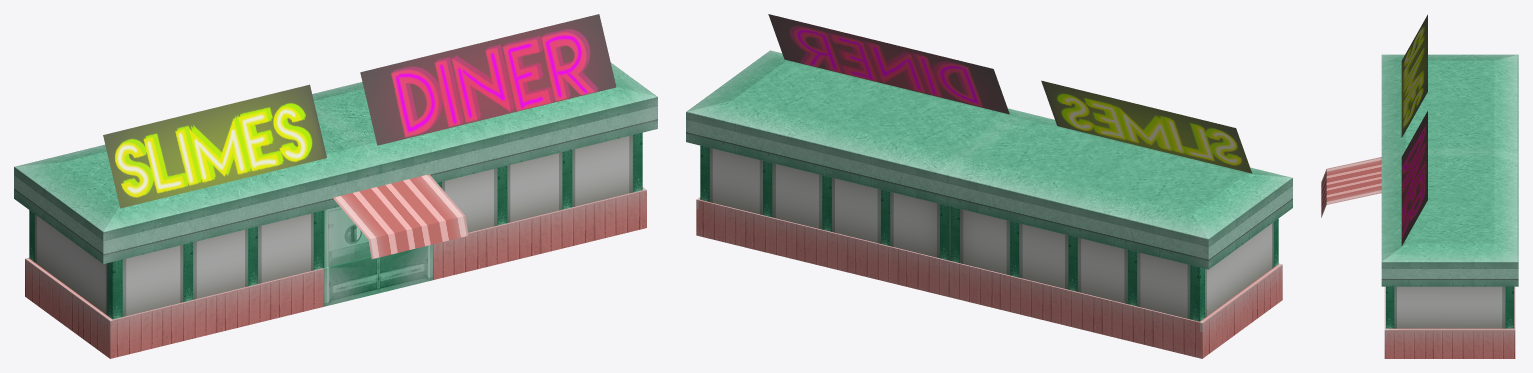
Rendered from Diner.FBX.
3 renders of one model, left to right at view 1: azimuth 30°, elevation 25°; view 2: azimuth 150°, elevation 25°; view 3: azimuth 270°, elevation 25°, orthographic. The views are drawn at different scales.
Parts seen in each view (by area): view 1: Box001, Schild; view 2: Box001, Schild; view 3: Box001, Schild.
Part boxes in pixels (x1,y1,x2,y2): Box001: [14, 63, 657, 358]; Schild: [103, 14, 616, 208]; Box001: [686, 50, 1292, 358]; Schild: [768, 14, 1251, 173]; Box001: [1321, 54, 1518, 358]; Schild: [1401, 14, 1427, 245].
Bounding box in the file's own units: 60.52 × 20.66 × 24.31.
Materials: 1 (1 with a texture image).
